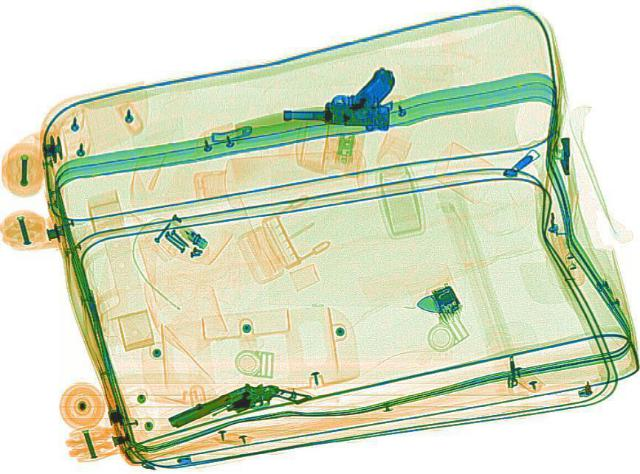Gun: (164, 365, 312, 447), (278, 58, 399, 131)
